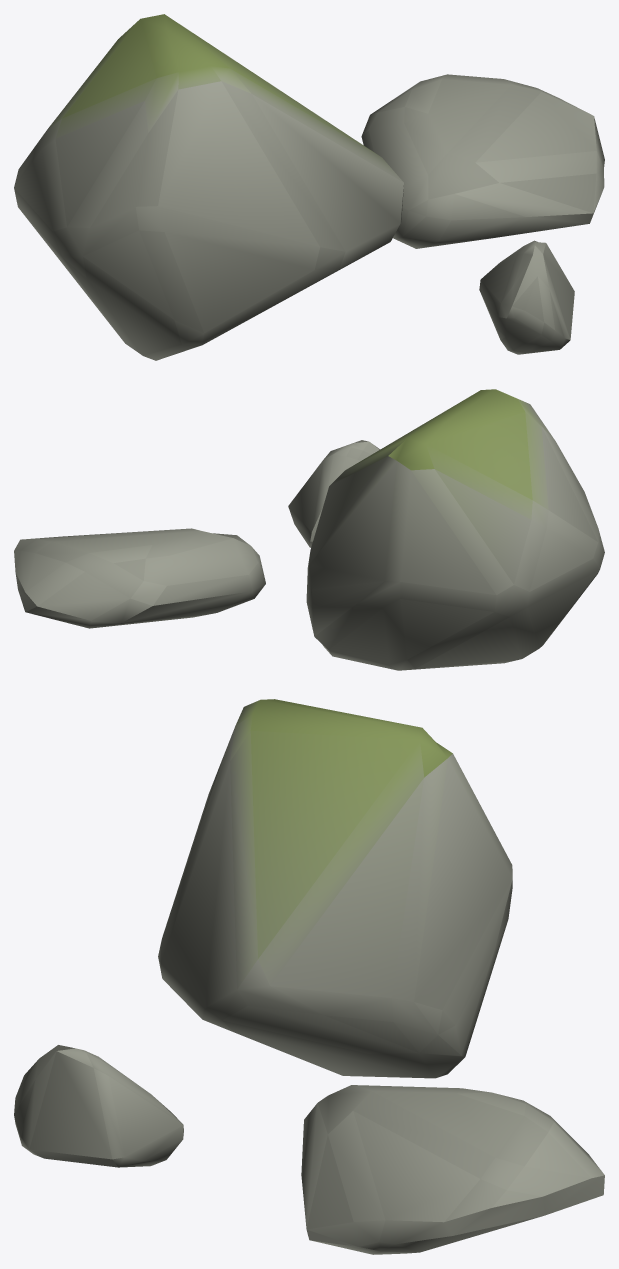
The model's file is path-rock-cluster.glb.
3 renders of one model, top to bottom at view 1: azimuth 30°, elevation 25°; view 2: azimuth 150°, elevation 25°; view 3: azimuth 270°, elevation 25°, orthographic. The views are drawn at different scales.
Visible parts, largest first — view 1: path-rock-cluster; view 2: path-rock-cluster; view 3: path-rock-cluster.
Part boxes in pixels (x1,y1,x2,y2): path-rock-cluster: [14, 14, 604, 360]; path-rock-cluster: [14, 389, 604, 670]; path-rock-cluster: [14, 699, 604, 1254].
Bounding box in the file's own units: 0.7327 × 0.3437 × 0.5542.
